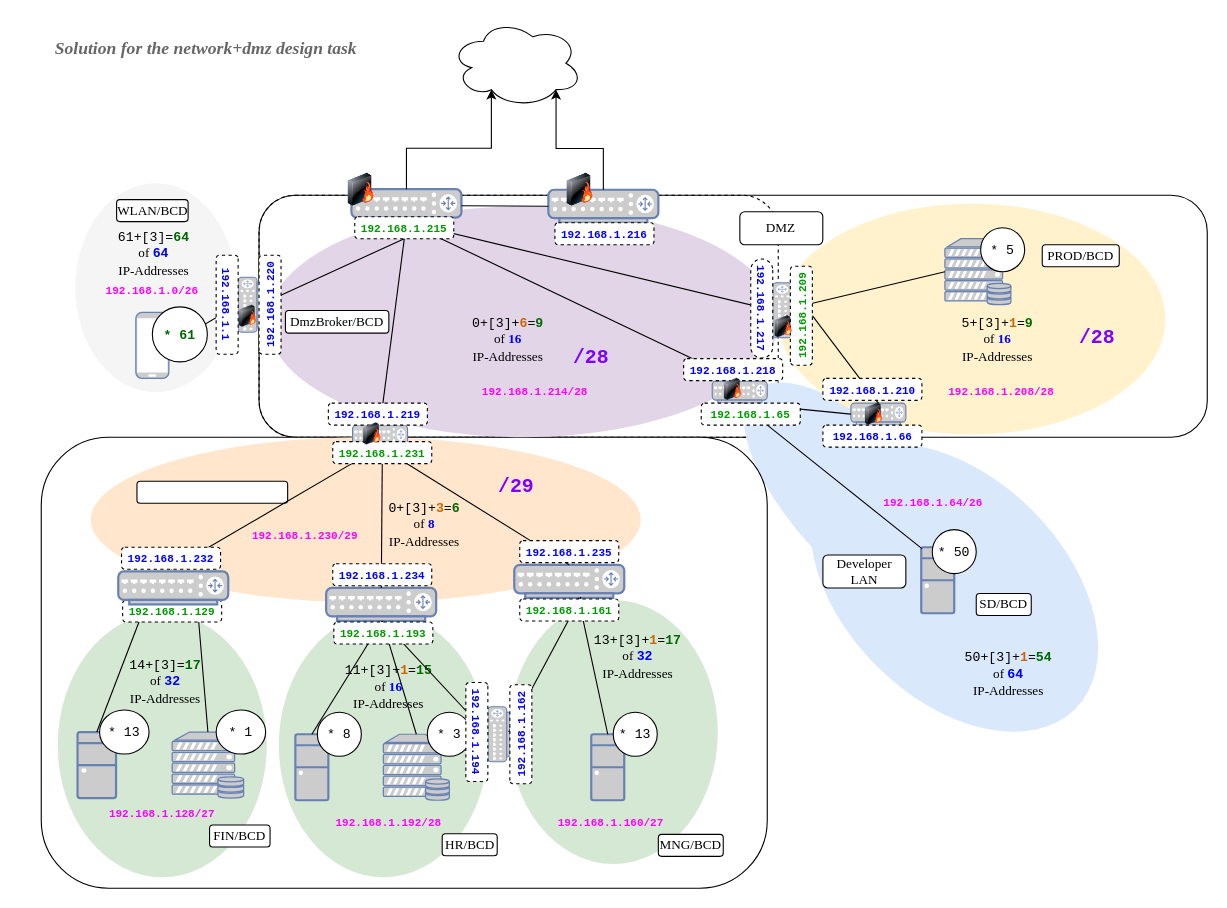
This 1227x908 diagram has some shape labels left out. Here are the shapes that lost their labels. From the top down, the box of each, then its label:
(449, 18, 582, 107): Internet
(136, 480, 288, 503): OfficeLanBroker/BCD
